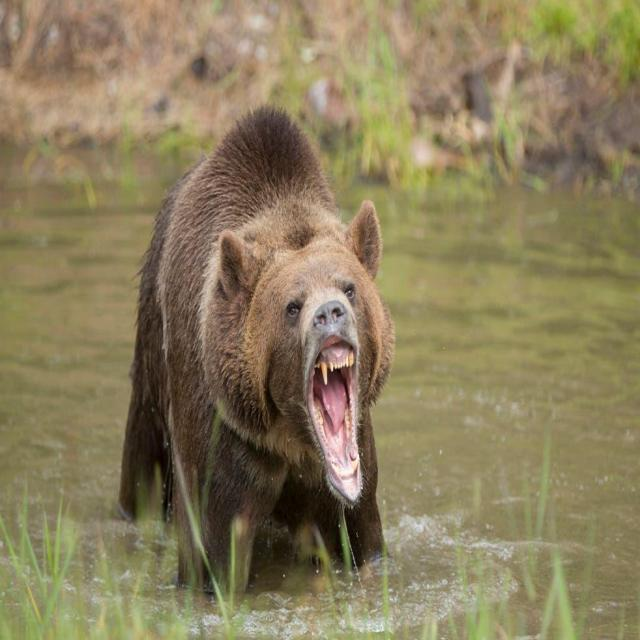Bear: (117, 108, 396, 607)
